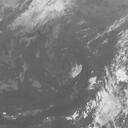cyclone: (43, 41, 91, 88)
